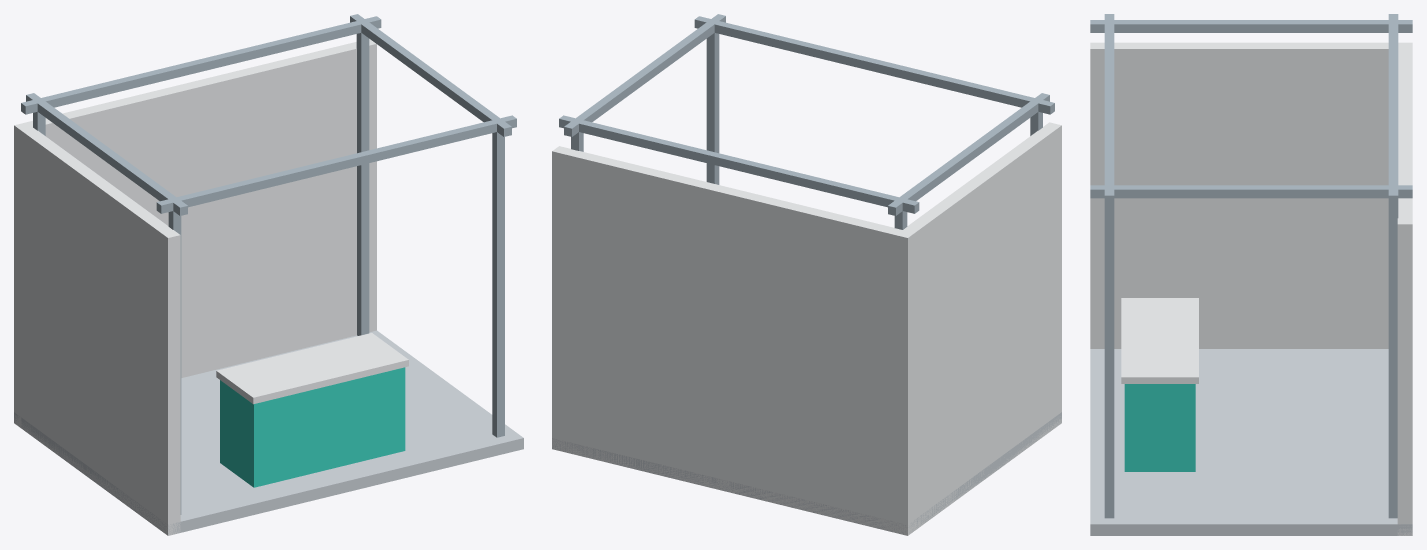
3 renders of one model, left to right at view 1: azimuth 30°, elevation 25°; view 2: azimuth 150°, elevation 25°; view 3: azimuth 270°, elevation 25°, orthographic. The views are drawn at different scales.
Visible parts, largest first — view 1: Exhibition Booth Concept; view 2: Exhibition Booth Concept; view 3: Exhibition Booth Concept.
Part boxes in pixels (box(x1,y1,x2,y2)): Exhibition Booth Concept: box(14, 14, 523, 535); Exhibition Booth Concept: box(552, 14, 1061, 535); Exhibition Booth Concept: box(1090, 14, 1412, 535).
Size of the model in its own units: 4 by 3.49 by 3.
